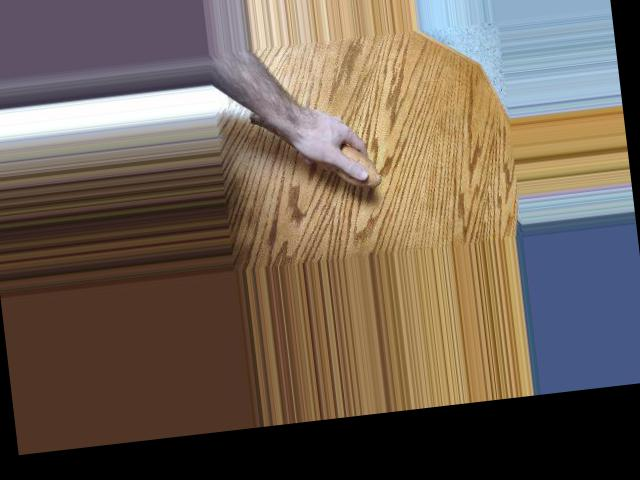sweet_potato: (242, 89, 383, 202)
